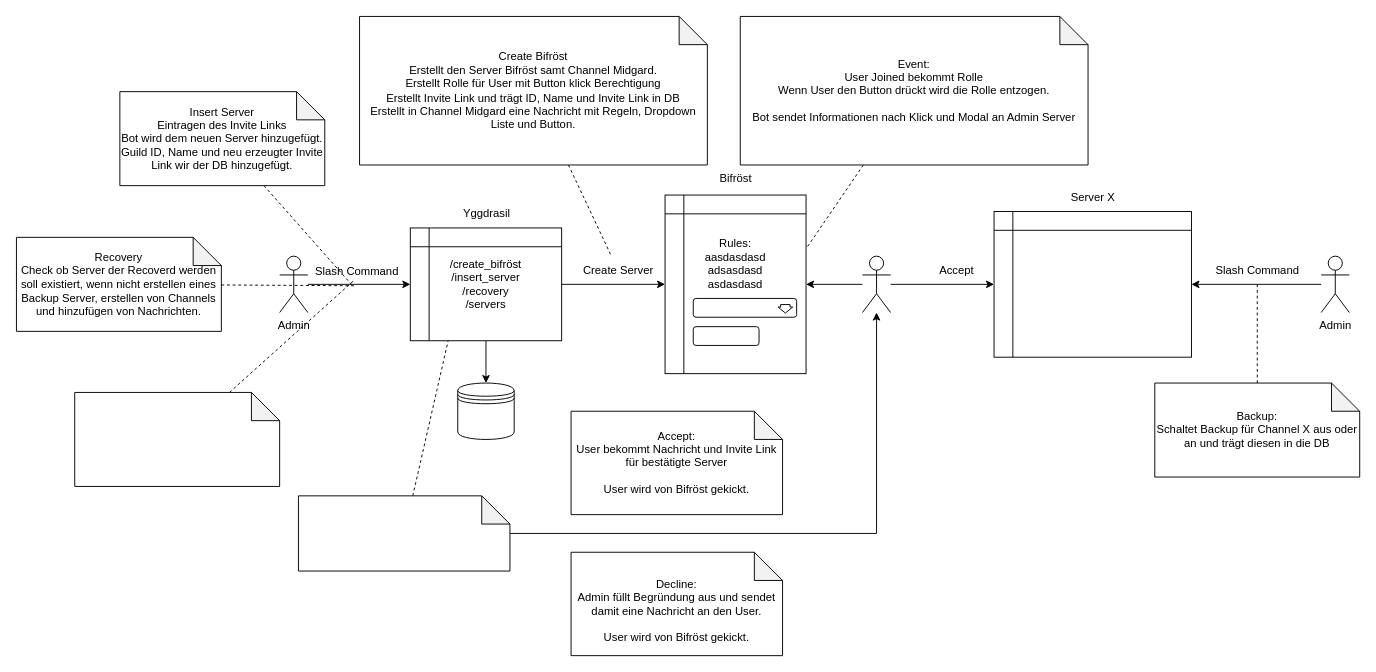
Some shapes in this 1376 by 672 pixel diagram are drawn without their labels. The box of each missing label's shape, as (x1, y1, x2, y2) in pixels:
DB: (457, 382, 514, 439)
Event: Wenn Admin Invite Accept/Decline: (298, 495, 510, 571)
Invite: (692, 326, 759, 345)
Servers: (692, 298, 797, 317)
Servers Zeigt eine Liste von Discord Servern samt Invite Links als Embed an.: (74, 392, 280, 486)
User: (862, 255, 891, 313)
